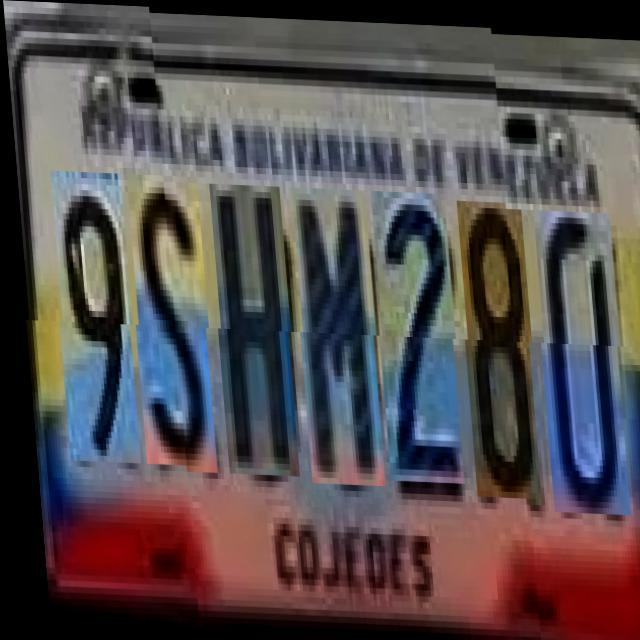0: (530, 199, 625, 504)
2: (368, 187, 460, 480)
8: (454, 196, 536, 494)
9: (47, 176, 136, 468)
H: (206, 182, 295, 474)
M: (288, 184, 381, 483)
S: (124, 179, 213, 471)
